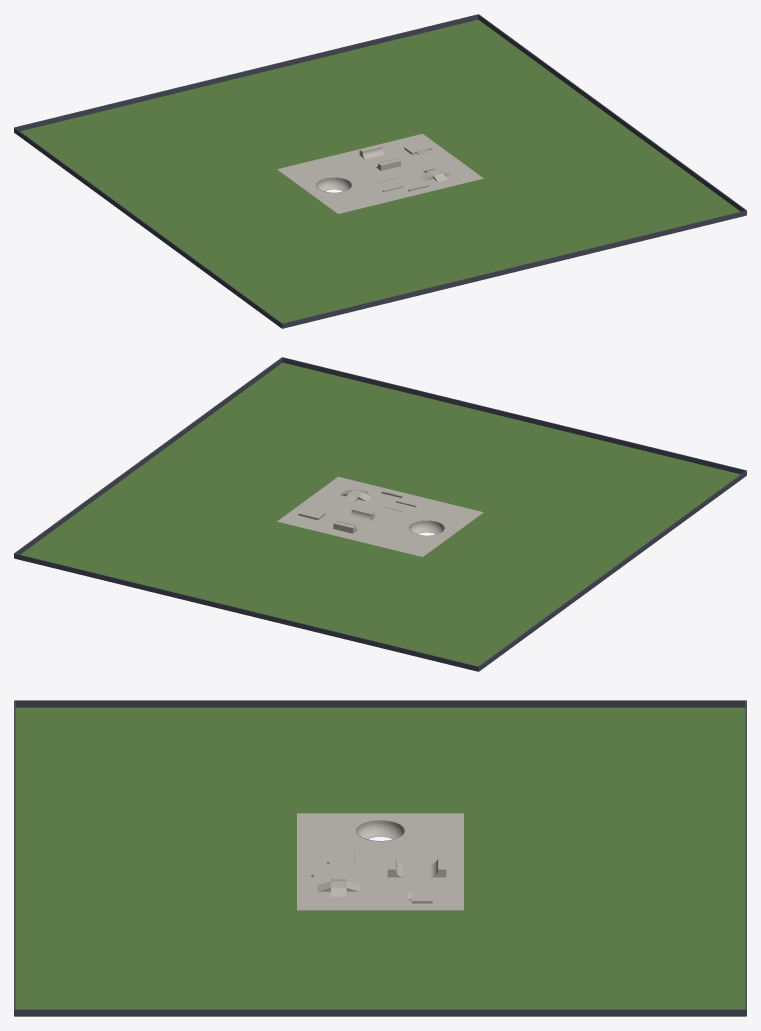
The model's file is spot_ralis.glb.
3 views of the same model, one above another, from view 1: azimuth 30°, elevation 25°; view 2: azimuth 150°, elevation 25°; view 3: azimuth 270°, elevation 25° (orthographic). The views are drawn at different scales.
Visible parts, largest first — view 1: spot_ralis; view 2: spot_ralis; view 3: spot_ralis.
Part boxes in pixels (x1,y1,x2,y2): spot_ralis: [14, 14, 746, 328]; spot_ralis: [14, 357, 746, 671]; spot_ralis: [14, 700, 746, 1016].
Size of the model in its own units: 140 by 4.22 by 140.
1 material, 1 textured.
